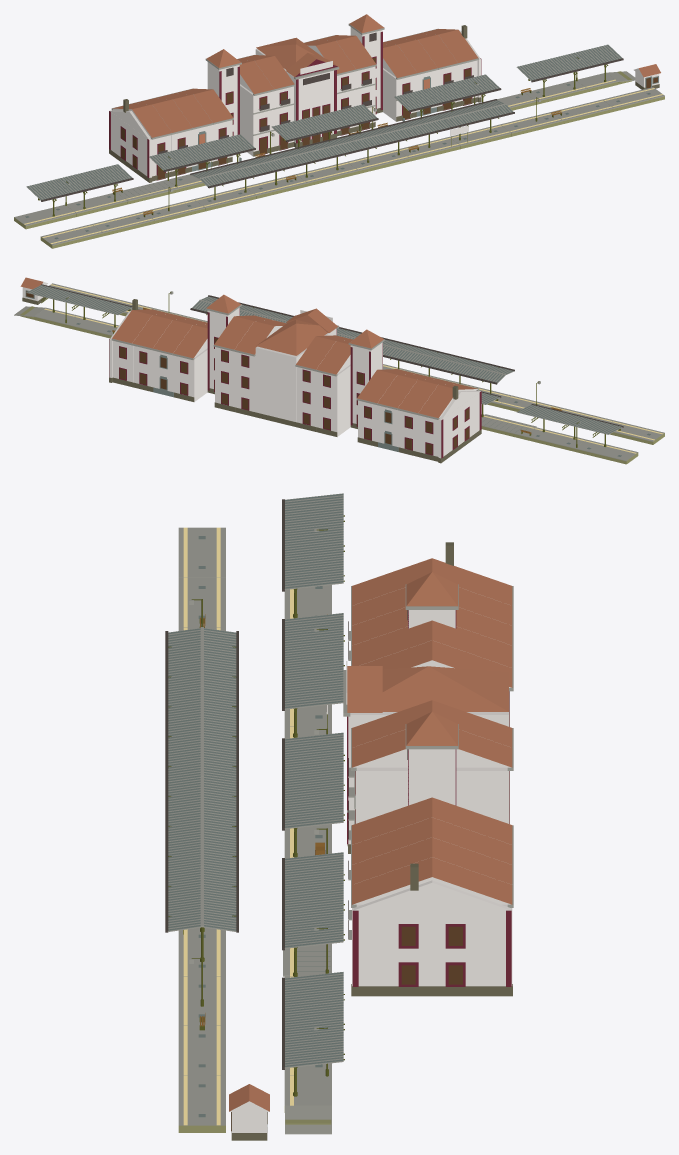
The model's file is SM_EstacionCastellon_v0_LOD0.fbx.
3 renders of one model, top to bottom at view 1: azimuth 30°, elevation 25°; view 2: azimuth 150°, elevation 25°; view 3: azimuth 270°, elevation 25°, orthographic. The views are drawn at different scales.
Visible parts, largest first — view 1: SM_bloques.estacion_castellon_v0_LOD0; view 2: SM_bloques.estacion_castellon_v0_LOD0; view 3: SM_bloques.estacion_castellon_v0_LOD0.
Part boxes in pixels (bbox=[...]): SM_bloques.estacion_castellon_v0_LOD0: bbox=[14, 14, 664, 248]; SM_bloques.estacion_castellon_v0_LOD0: bbox=[14, 277, 664, 464]; SM_bloques.estacion_castellon_v0_LOD0: bbox=[165, 493, 513, 1140].
Bounding box in the file's own units: 122 × 18.11 × 29.52.
